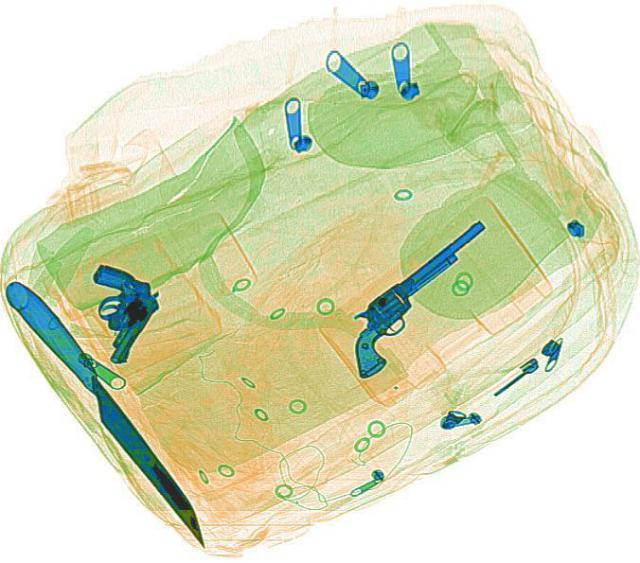Gun: (316, 217, 526, 380), (55, 260, 168, 365)
Knife: (0, 273, 219, 552)
